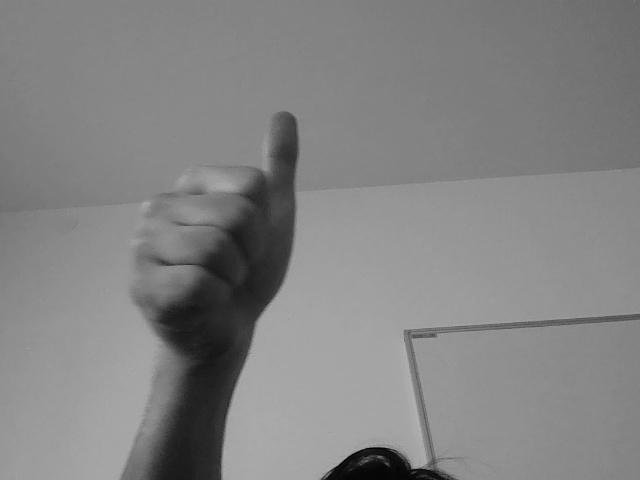good: (120, 120, 348, 340)
